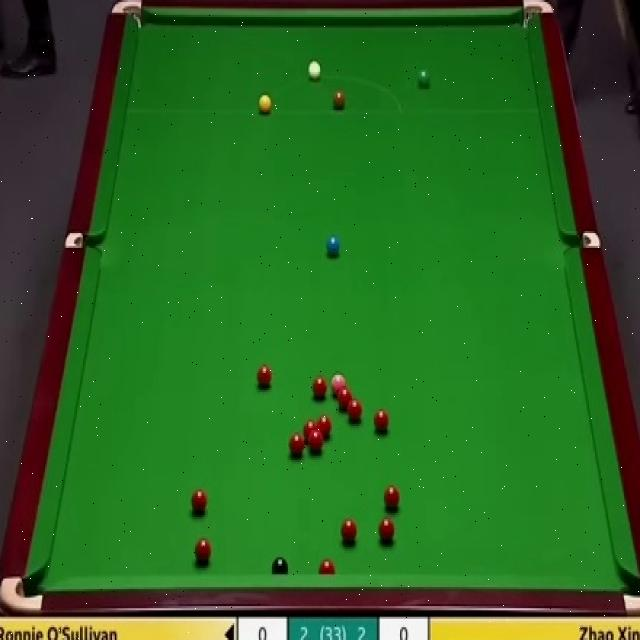black-ball: (271, 553, 288, 578)
blue-ball: (326, 236, 341, 257)
brown-ball: (332, 92, 346, 113)
green-ball: (416, 68, 432, 90)
pink-ball: (330, 370, 346, 394)
red-ball: (377, 516, 396, 544), (382, 484, 401, 512), (190, 487, 208, 514), (255, 362, 272, 390), (341, 516, 358, 543), (194, 536, 211, 562), (347, 400, 363, 426), (288, 432, 305, 456), (312, 374, 328, 399), (308, 428, 324, 452), (374, 408, 389, 433), (318, 414, 333, 438), (336, 388, 353, 408), (318, 558, 335, 575), (303, 419, 318, 438)
white-ball: (308, 58, 321, 81)
yellow-ball: (258, 91, 271, 114)
